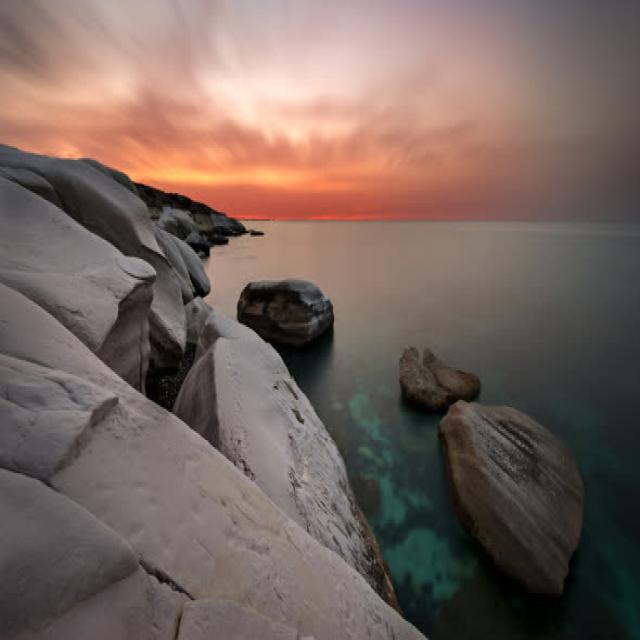reef: (386, 339, 586, 587)
